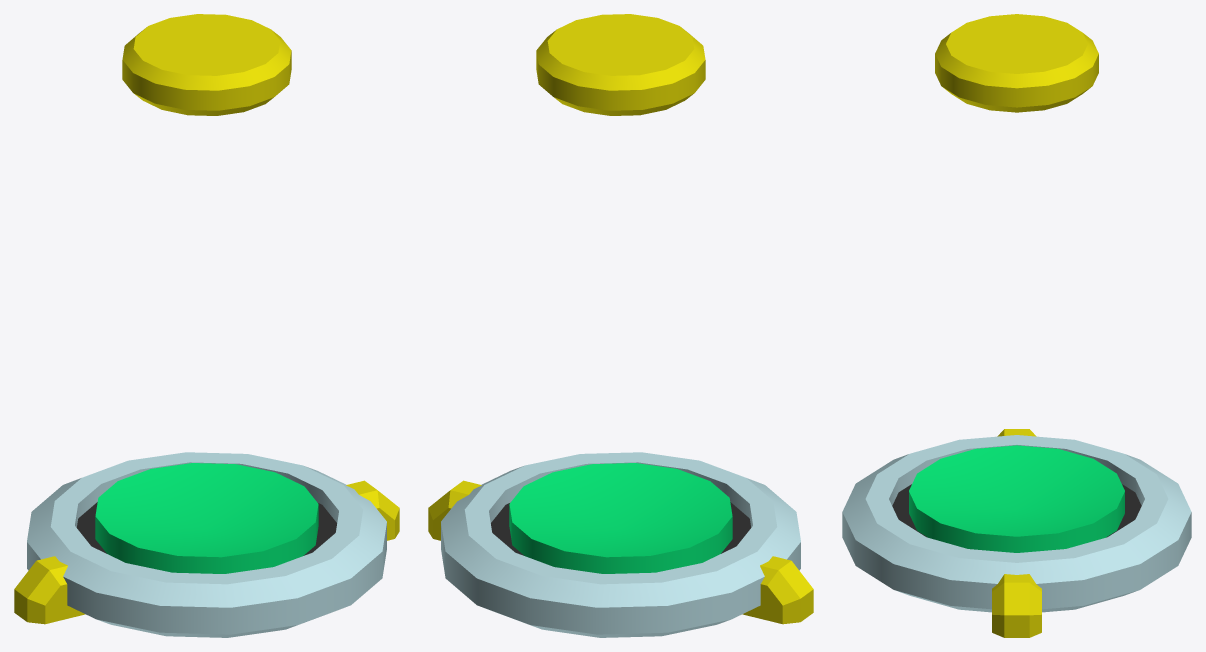
File: Hologram_Thingy.fbx
The picture shows the model from 3 angles, left to right: view 1: azimuth 30°, elevation 25°; view 2: azimuth 150°, elevation 25°; view 3: azimuth 270°, elevation 25°; orthographic projection. The views are drawn at different scales.
Visible parts, largest first — view 1: Hologram_thingy; view 2: Hologram_thingy; view 3: Hologram_thingy.
Part boxes in pixels (x1=…): Hologram_thingy: x1=14, y1=14, x2=399, y2=637; Hologram_thingy: x1=428, y1=14, x2=813, y2=637; Hologram_thingy: x1=842, y1=14, x2=1191, y2=637.
Size of the model in its own units: 2.41 by 3.25 by 2.03.
